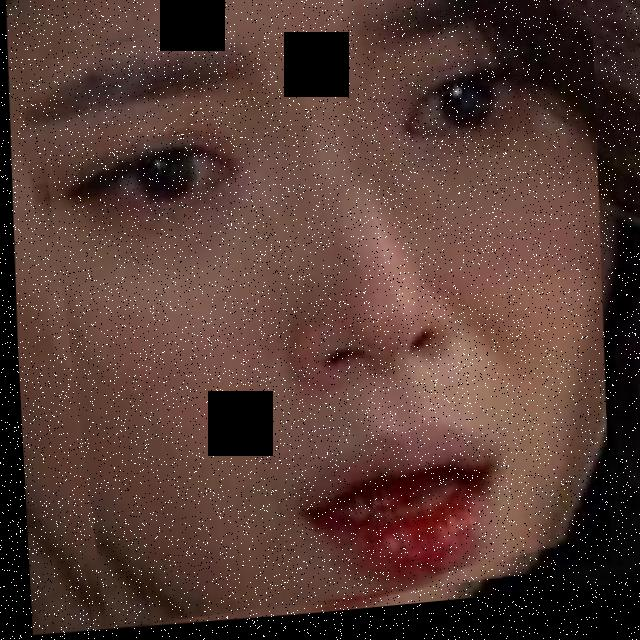fear: (15, 0, 615, 639)
